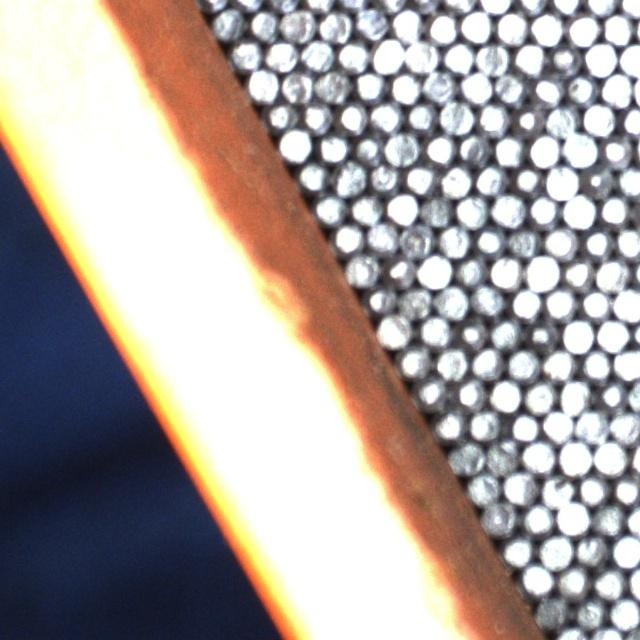tool: (502, 469, 538, 505), (521, 438, 556, 474), (592, 439, 628, 474), (439, 98, 474, 134), (422, 130, 457, 166), (418, 312, 453, 348), (470, 282, 506, 317), (538, 532, 573, 568), (399, 222, 434, 258), (376, 313, 412, 348), (366, 157, 402, 192), (384, 129, 419, 165), (481, 500, 517, 535), (574, 408, 609, 443), (525, 254, 560, 289), (354, 5, 389, 40), (574, 532, 609, 567), (557, 378, 592, 413), (544, 163, 579, 198), (404, 37, 439, 72), (520, 500, 555, 535), (457, 130, 492, 165), (458, 69, 493, 104), (591, 500, 626, 535), (449, 439, 484, 474), (436, 223, 471, 258), (484, 440, 519, 475), (557, 438, 591, 474), (582, 100, 616, 136), (543, 224, 579, 258), (506, 224, 542, 258), (371, 36, 405, 72), (562, 132, 598, 166), (572, 595, 608, 629), (595, 256, 629, 291), (545, 103, 580, 137), (417, 253, 452, 287), (494, 10, 529, 44), (458, 8, 492, 43), (477, 101, 511, 136), (279, 69, 314, 103), (555, 500, 589, 535), (468, 407, 503, 441), (403, 160, 438, 194), (404, 98, 438, 133), (455, 193, 489, 228), (493, 70, 528, 104), (316, 68, 350, 103), (365, 220, 400, 254), (592, 565, 627, 599), (582, 162, 617, 196), (318, 7, 352, 42), (352, 68, 387, 102), (278, 126, 312, 161), (281, 6, 315, 41), (530, 71, 564, 106), (556, 564, 591, 598), (470, 346, 505, 380), (488, 378, 522, 413), (423, 68, 457, 103), (438, 163, 473, 197), (519, 560, 554, 594), (434, 346, 469, 380), (475, 41, 510, 75), (595, 317, 630, 351), (419, 192, 454, 226), (561, 193, 595, 228), (512, 41, 546, 76), (465, 470, 500, 504), (534, 593, 569, 627), (561, 256, 594, 292), (530, 11, 564, 45), (316, 130, 350, 164), (542, 347, 576, 381), (528, 132, 562, 166), (601, 11, 635, 45), (579, 286, 613, 320), (506, 348, 540, 382), (543, 286, 577, 320), (418, 376, 452, 410), (474, 162, 508, 196), (600, 134, 634, 168), (390, 8, 424, 42), (540, 408, 574, 442), (247, 6, 281, 40), (346, 251, 380, 285), (399, 284, 433, 318), (491, 192, 525, 226), (300, 37, 334, 71), (508, 286, 542, 320), (434, 284, 468, 318), (264, 97, 298, 131), (566, 11, 600, 45), (264, 37, 298, 71), (454, 375, 488, 409), (583, 41, 617, 75), (442, 40, 476, 74), (454, 253, 488, 287), (300, 100, 334, 134), (595, 377, 629, 411), (525, 316, 559, 350), (580, 225, 614, 259), (540, 474, 574, 508), (335, 38, 369, 72), (507, 409, 541, 443), (473, 223, 507, 257), (489, 255, 523, 289), (332, 161, 366, 195), (489, 315, 523, 349), (560, 317, 594, 351), (456, 315, 490, 349), (548, 43, 582, 77), (212, 6, 246, 40), (314, 191, 348, 225), (384, 190, 418, 224), (334, 100, 368, 134), (433, 407, 467, 441), (576, 471, 610, 505), (524, 379, 557, 414), (368, 99, 403, 132), (388, 69, 421, 104), (296, 157, 329, 192), (426, 10, 459, 44), (502, 533, 535, 567), (600, 71, 633, 105), (492, 133, 526, 166), (579, 347, 612, 381), (330, 220, 364, 253), (510, 162, 543, 196), (564, 72, 598, 105), (399, 344, 432, 378), (349, 192, 383, 225), (527, 193, 561, 226), (598, 193, 632, 226), (512, 102, 545, 136), (365, 281, 398, 315), (246, 68, 279, 101), (384, 254, 417, 287), (230, 38, 263, 71), (352, 131, 384, 165), (608, 596, 640, 630), (609, 409, 640, 444), (610, 532, 640, 568), (610, 472, 640, 506), (612, 286, 640, 321), (613, 347, 640, 381), (614, 226, 640, 260), (616, 163, 640, 197), (617, 104, 640, 138), (618, 41, 640, 76), (590, 624, 624, 640), (584, 0, 617, 16), (514, 0, 548, 15), (550, 0, 582, 15), (372, 0, 407, 13), (410, 0, 442, 14), (443, 0, 477, 13)
